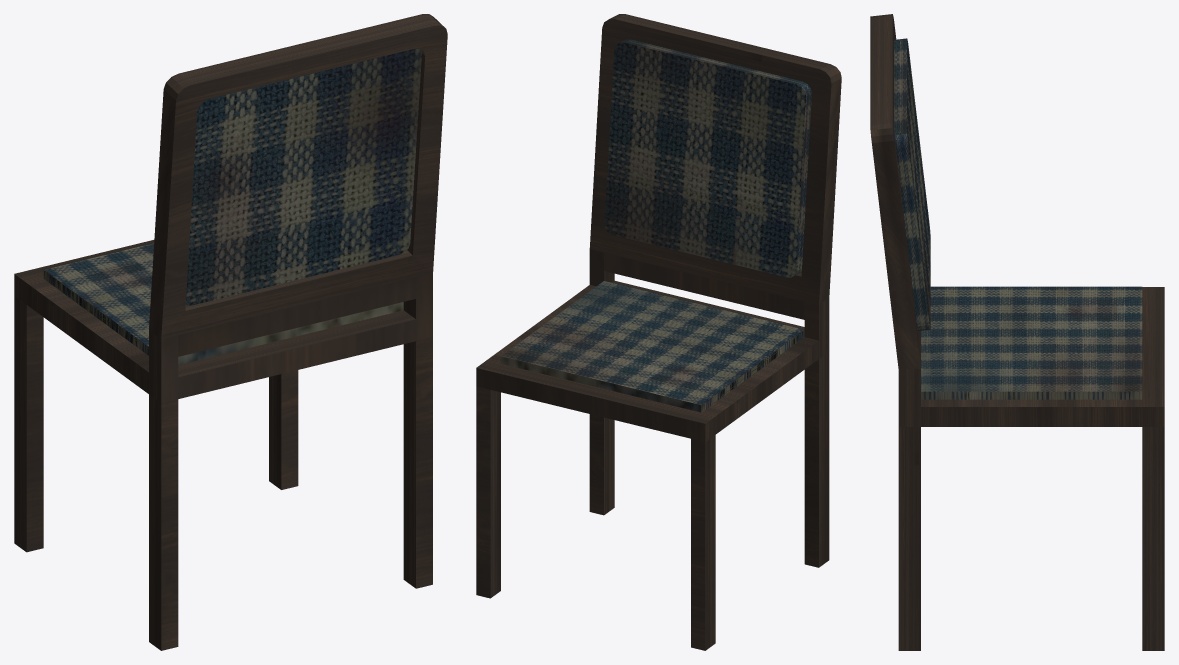
Rendered from Chair.fbx.
3 renders of one model, left to right at view 1: azimuth 30°, elevation 25°; view 2: azimuth 150°, elevation 25°; view 3: azimuth 270°, elevation 25°, orthographic. The views are drawn at different scales.
Parts seen in each view (by area): view 1: ChairFrame, TopCushion, BottomCushion; view 2: ChairFrame, TopCushion, BottomCushion; view 3: ChairFrame, BottomCushion, TopCushion.
Boxes of the visible parts, x1=… form: ChairFrame: x1=14, y1=14, x2=447, y2=650; TopCushion: x1=186, y1=49, x2=421, y2=305; BottomCushion: x1=43, y1=243, x2=403, y2=364; ChairFrame: x1=476, y1=14, x2=841, y2=650; TopCushion: x1=604, y1=39, x2=811, y2=277; BottomCushion: x1=501, y1=281, x2=804, y2=412; ChairFrame: x1=870, y1=14, x2=1164, y2=650; BottomCushion: x1=921, y1=286, x2=1142, y2=399; TopCushion: x1=894, y1=38, x2=930, y2=330.
Size of the model in its own units: 48.26 by 97.78 by 50.02.
